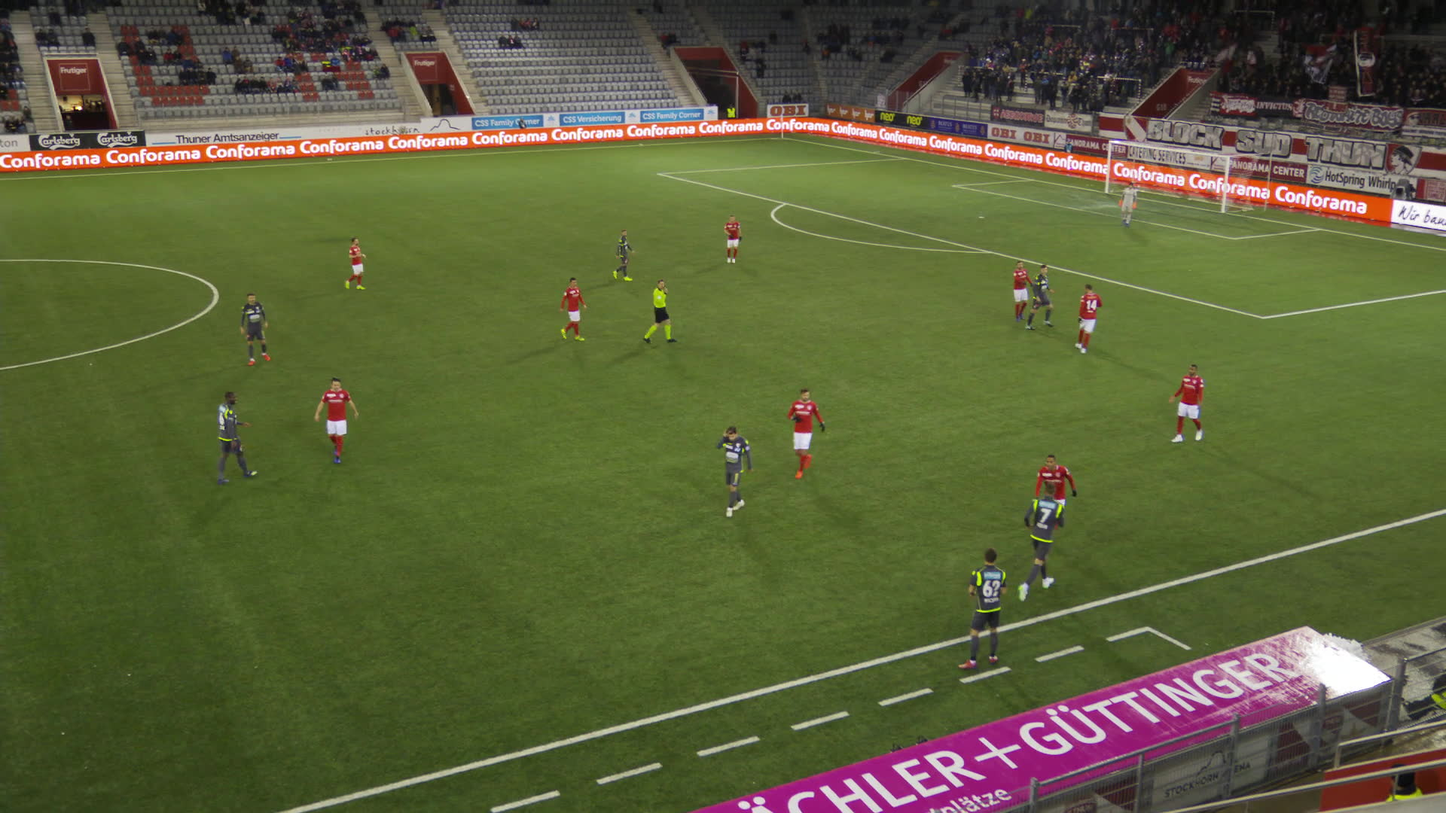player: (956, 546, 1009, 671), (1014, 482, 1064, 604), (1031, 451, 1081, 556), (312, 374, 362, 465), (212, 388, 258, 486), (787, 382, 828, 480), (715, 422, 754, 518), (1163, 361, 1207, 443), (239, 291, 273, 367), (1071, 280, 1105, 356), (1023, 262, 1057, 330), (556, 273, 589, 343), (1010, 258, 1035, 323), (341, 235, 368, 291), (611, 227, 637, 282), (723, 212, 744, 264), (1117, 181, 1140, 228)
referee: (642, 277, 679, 345)
